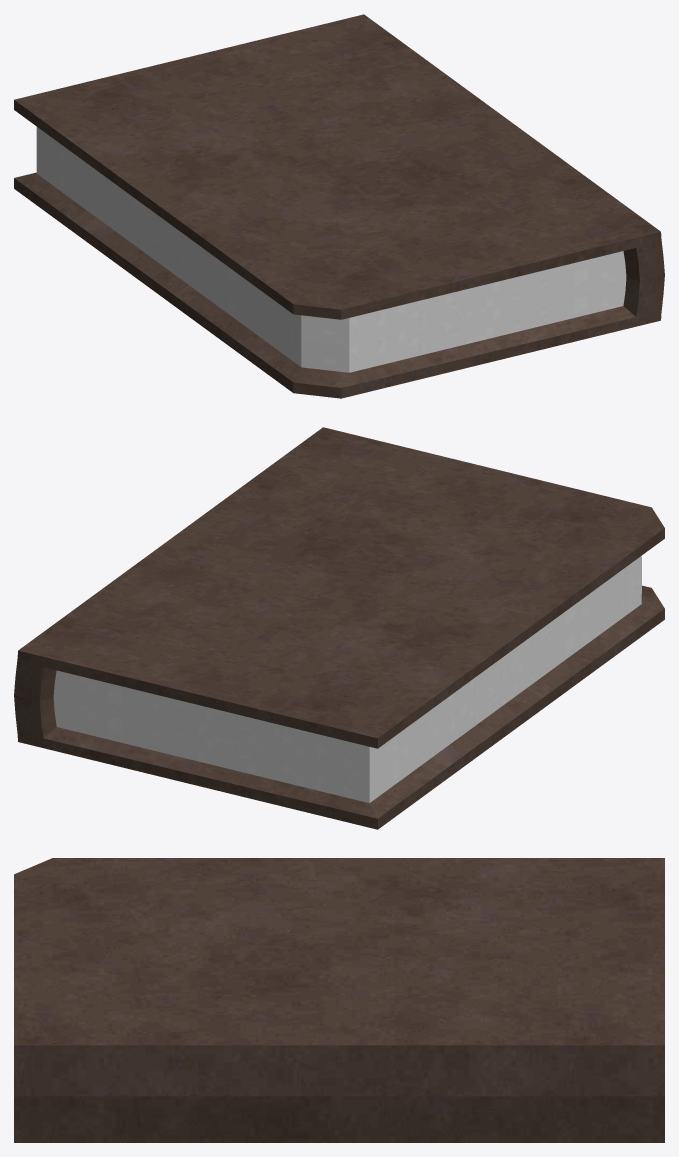
File: book.fbx
3 renders of one model, top to bottom at view 1: azimuth 30°, elevation 25°; view 2: azimuth 150°, elevation 25°; view 3: azimuth 270°, elevation 25°, orthographic. The views are drawn at different scales.
Visible parts, largest first — view 1: bookTop, bookBottom; view 2: bookTop, bookBottom; view 3: bookTop, bookBottom.
Boxes of the visible parts, <box> form: bookTop: <box>14,14,664,344</box>; bookBottom: <box>14,146,664,398</box>; bookTop: <box>14,427,664,774</box>; bookBottom: <box>14,575,664,829</box>; bookTop: <box>14,858,664,1096</box>; bookBottom: <box>14,1096,664,1142</box>.
Bounding box in the file's own units: 0.3536 × 0.0849 × 0.5137.
